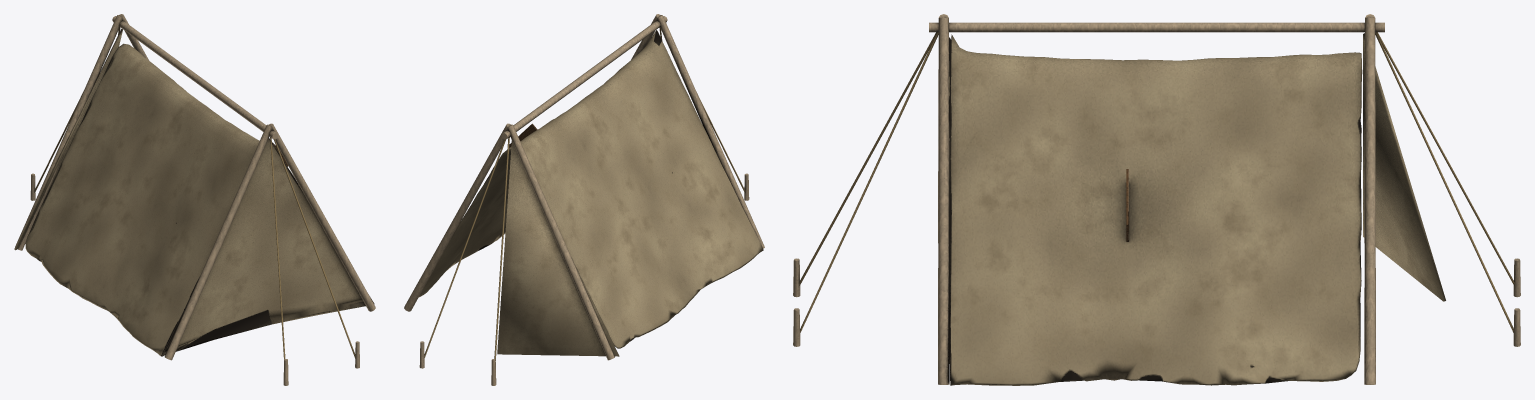
File: cenario_tenda_lona.glb
3 renders of one model, left to right at view 1: azimuth 30°, elevation 25°; view 2: azimuth 150°, elevation 25°; view 3: azimuth 270°, elevation 25°, orthographic. The views are drawn at different scales.
Visible parts, largest first — view 1: cenario_tenda_lona_tronco; view 2: cenario_tenda_lona_tronco; view 3: cenario_tenda_lona_tronco.
Part boxes in pixels (x1=…): cenario_tenda_lona_tronco: x1=14, y1=14, x2=375, y2=385; cenario_tenda_lona_tronco: x1=404, y1=14, x2=764, y2=385; cenario_tenda_lona_tronco: x1=793, y1=14, x2=1520, y2=385.
Bounding box in the file's own units: 2.44 × 2.29 × 4.95.
Materials: 1 (1 with a texture image).
